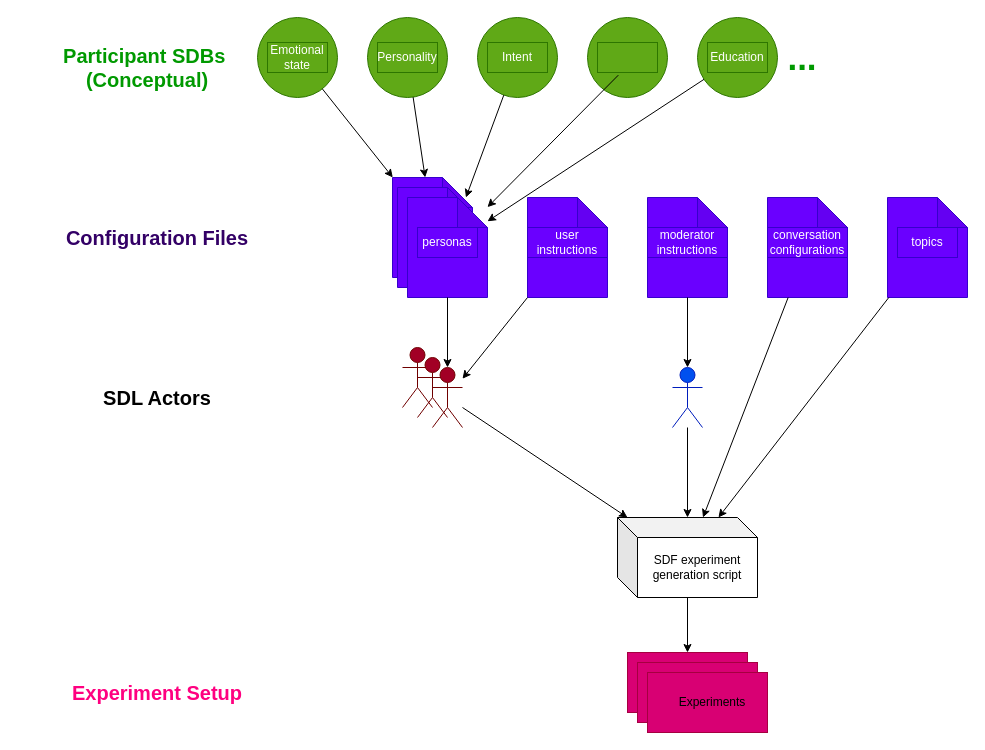
Image size: 985x750. Some labels were removed from this diagram. Each missing label, with the box of its shape:
Age: (596, 42, 658, 72)
LLM Moderator: (672, 366, 702, 428)
LLM Users: (432, 366, 462, 428)
